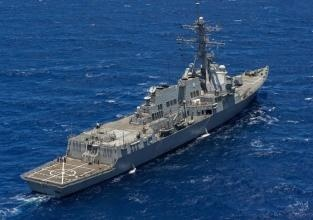warship: (20, 47, 281, 194)
